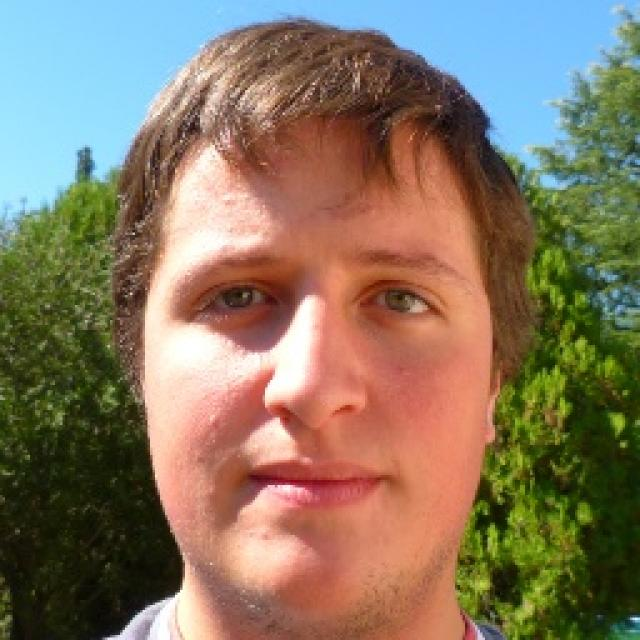earlobe: (485, 418, 503, 446)
eye: (369, 282, 438, 326), (200, 283, 280, 315)
nose: (268, 410, 368, 452)
wholeear: (483, 340, 506, 444)
